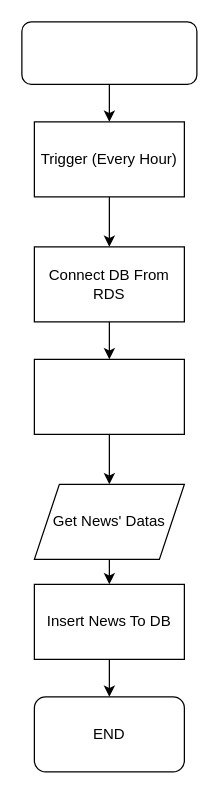
This 219x794 diagram has some shape labels left out. Each missing label, with the box of its shape:
Get Request To URL: (33, 358, 184, 434)
START: (21, 21, 197, 84)
